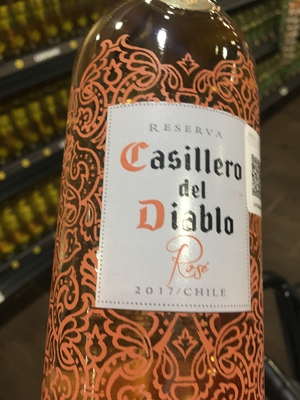casillero del diablo rose: (53, 10, 262, 400)
